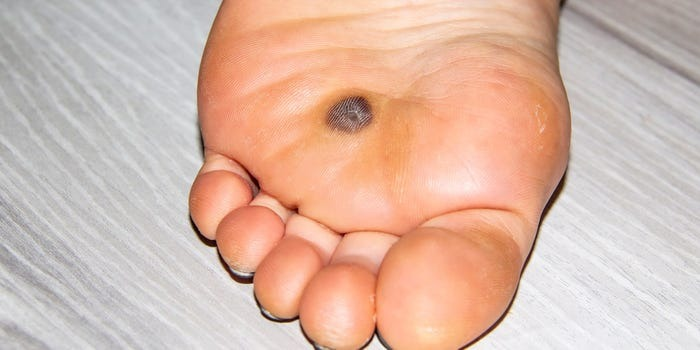Warts: (310, 78, 404, 163)
